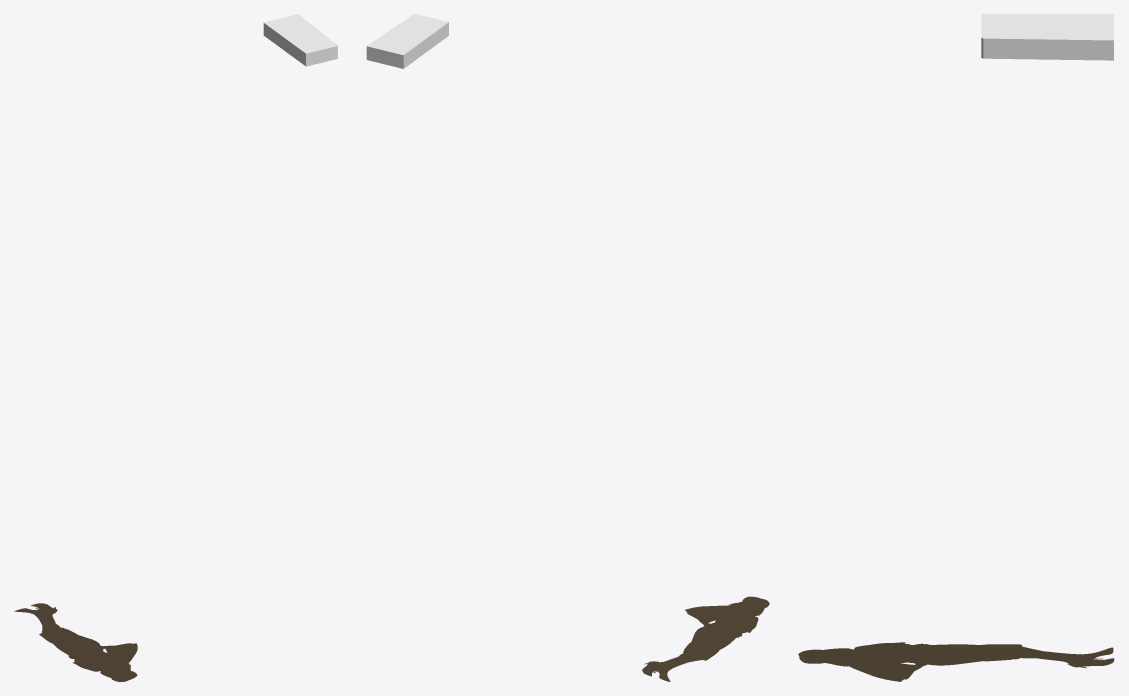
The model's file is aneh.gltf.
3 views of the same model, side by side, from view 1: azimuth 30°, elevation 25°; view 2: azimuth 150°, elevation 25°; view 3: azimuth 270°, elevation 25° (orthographic). The views are drawn at different scales.
Parts seen in each view (by area): view 1: Sumele, SketchUp; view 2: Sumele, SketchUp; view 3: SketchUp, Sumele.
Part boxes in pixels (x1,y1,x2,y2): Sumele: [14, 603, 137, 681]; SketchUp: [263, 14, 337, 66]; Sumele: [642, 596, 769, 681]; SketchUp: [366, 14, 448, 68]; SketchUp: [981, 14, 1113, 60]; Sumele: [798, 642, 1114, 681].
Size of the model in its own units: 108 by 187 by 64.95.
